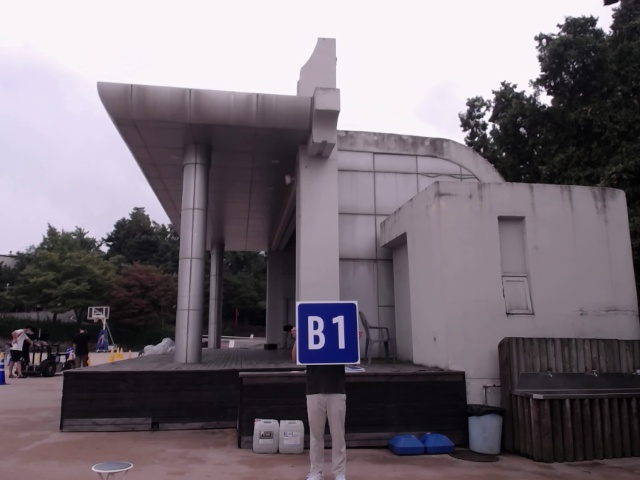delivery_b1: (296, 301, 360, 364)
